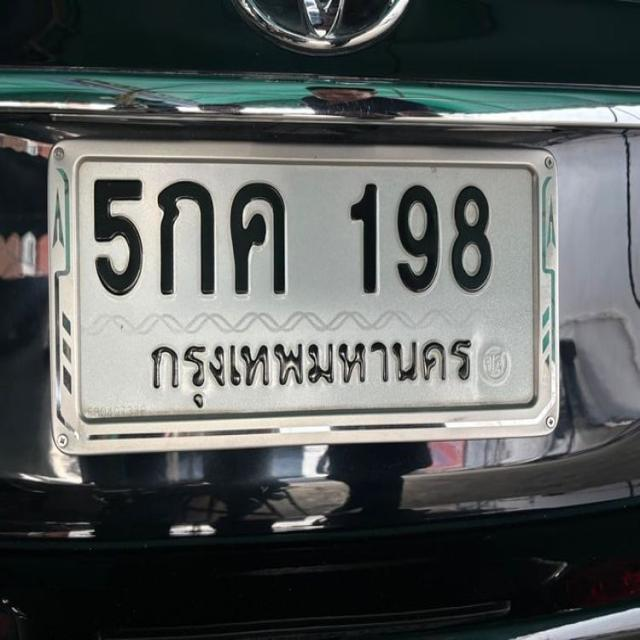plate: (54, 144, 556, 433)
